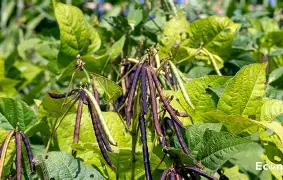crops: (0, 2, 278, 179)
